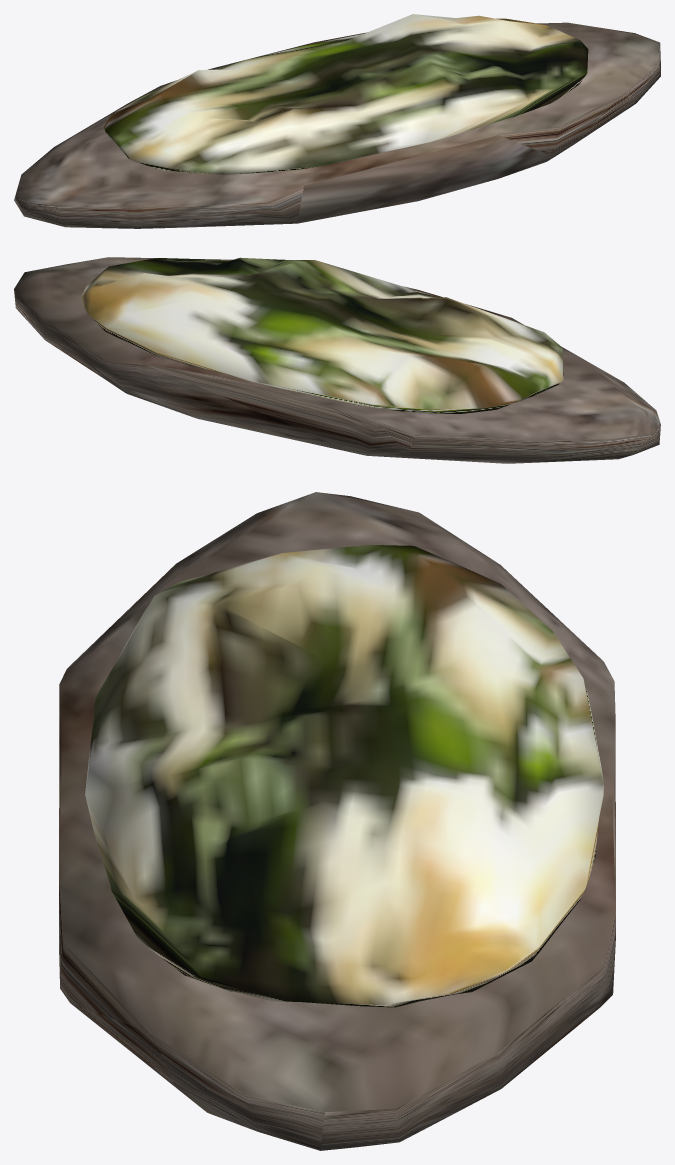
The model's file is AL_Tlacoyos_Static.fbx.
The picture shows the model from 3 angles, top to bottom: view 1: azimuth 30°, elevation 25°; view 2: azimuth 150°, elevation 25°; view 3: azimuth 270°, elevation 25°; orthographic projection. The views are drawn at different scales.
Visible parts, largest first — view 1: Plane.001; view 2: Plane.001; view 3: Plane.001.
Part boxes in pixels (box(x1,y1,x2,y2)): Plane.001: box(14, 14, 660, 228); Plane.001: box(14, 257, 660, 463); Plane.001: box(59, 492, 615, 1150).
Bounding box in the file's own units: 0.1645 × 0.0631 × 0.4332.
